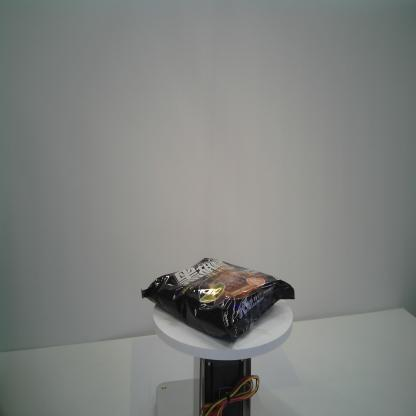Instant Noodles: (137, 252, 296, 343)
